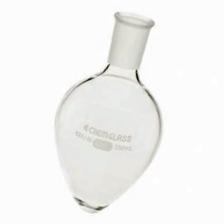Pear shaped flask: (35, 18, 176, 217)
